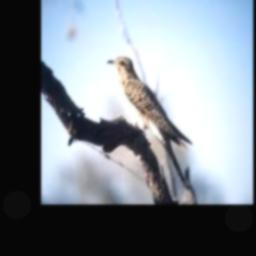Cuckoo: (107, 56, 192, 189)
